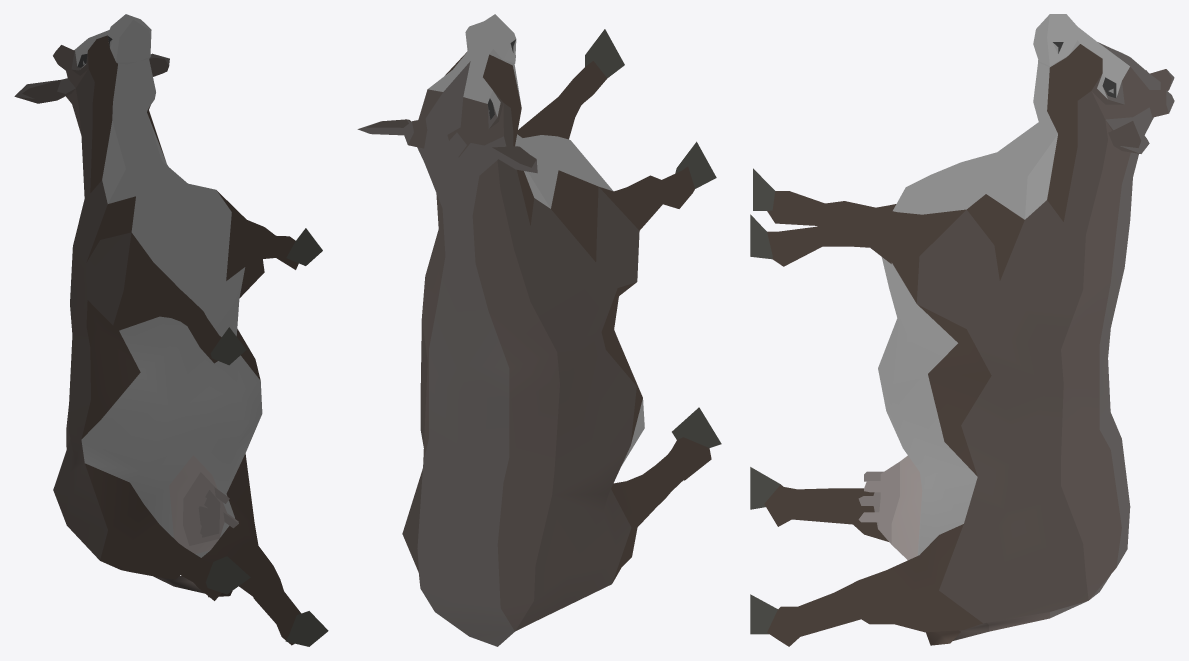
File: cow.fbx
The picture shows the model from 3 angles, left to right: view 1: azimuth 30°, elevation 25°; view 2: azimuth 150°, elevation 25°; view 3: azimuth 270°, elevation 25°; orthographic projection. The views are drawn at different scales.
Parts seen in each view (by area): view 1: Cow_2791_frame[0].001; view 2: Cow_2791_frame[0].001; view 3: Cow_2791_frame[0].001.
Boxes of the visible parts, x1,y1,x2,y2 form: Cow_2791_frame[0].001: (14, 14, 328, 646); Cow_2791_frame[0].001: (357, 14, 721, 646); Cow_2791_frame[0].001: (750, 14, 1174, 646).
Bounding box in the file's own units: 8000 × 24400 × 15300.
